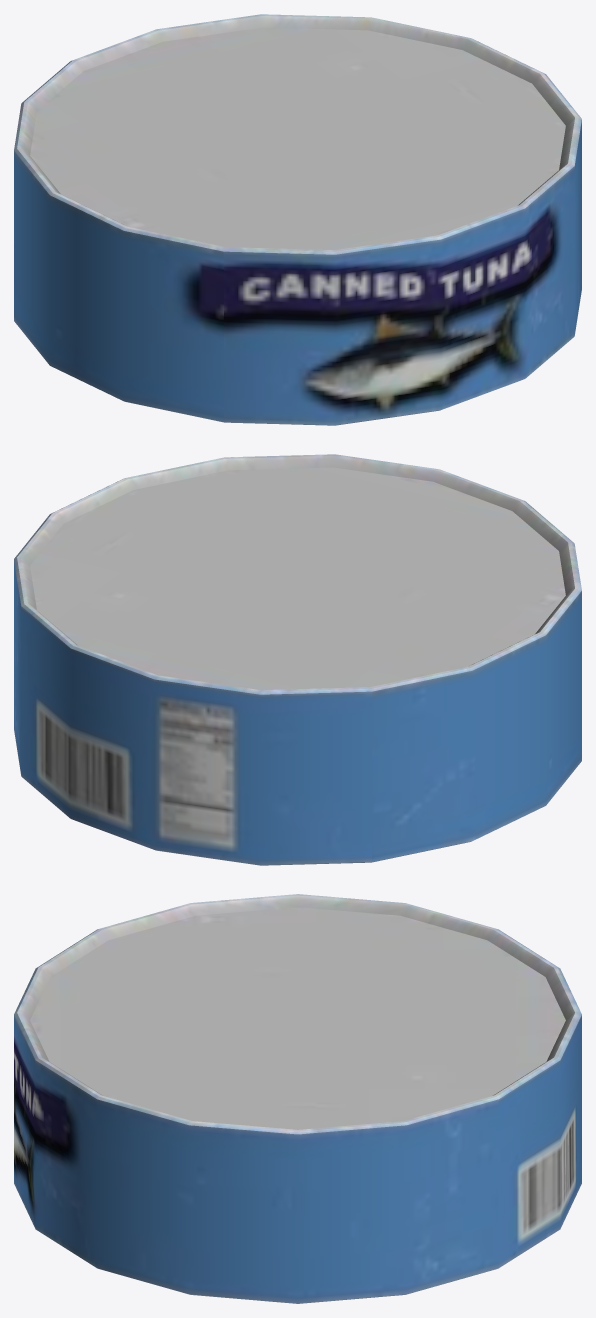
File: Canned_Tuna.glb
3 views of the same model, one above another, from view 1: azimuth 30°, elevation 25°; view 2: azimuth 150°, elevation 25°; view 3: azimuth 270°, elevation 25° (orthographic).
Parts seen in each view (by area): view 1: CannedFood; view 2: CannedFood; view 3: CannedFood.
Part boxes in pixels (bbox=[...]): CannedFood: bbox=[14, 14, 581, 425]; CannedFood: bbox=[14, 454, 581, 865]; CannedFood: bbox=[14, 894, 581, 1303].
Bounding box in the file's own units: 0.1197 × 0.0401 × 0.1197.
1 material, 1 textured.
